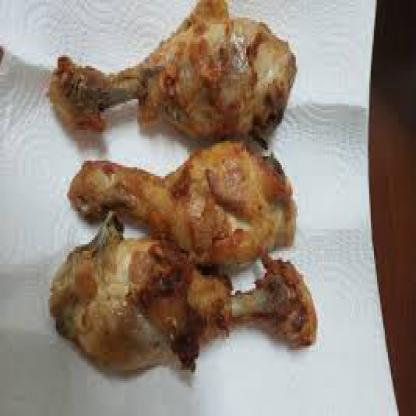ayam_goreng: (46, 220, 320, 379), (46, 0, 298, 148), (70, 139, 301, 258)
